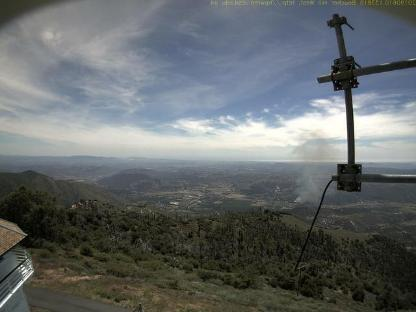smoke: (290, 131, 338, 203)
